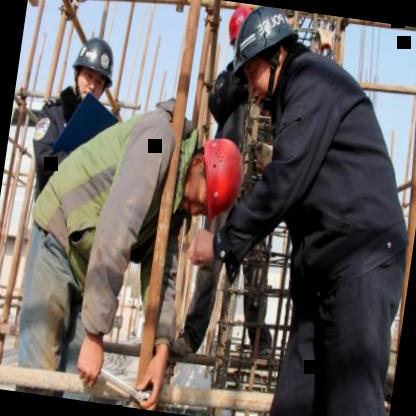helmet: (227, 3, 300, 111), (177, 131, 251, 224), (68, 33, 118, 107), (224, 4, 254, 52)
